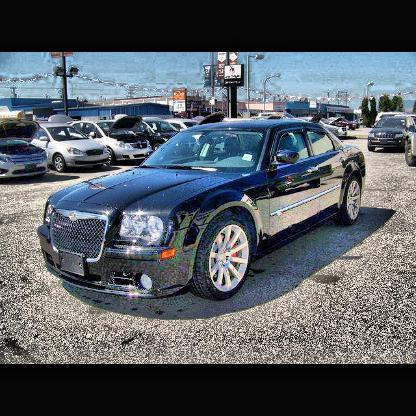Chrysler 300 SRT-8 2010: (34, 116, 366, 306)
